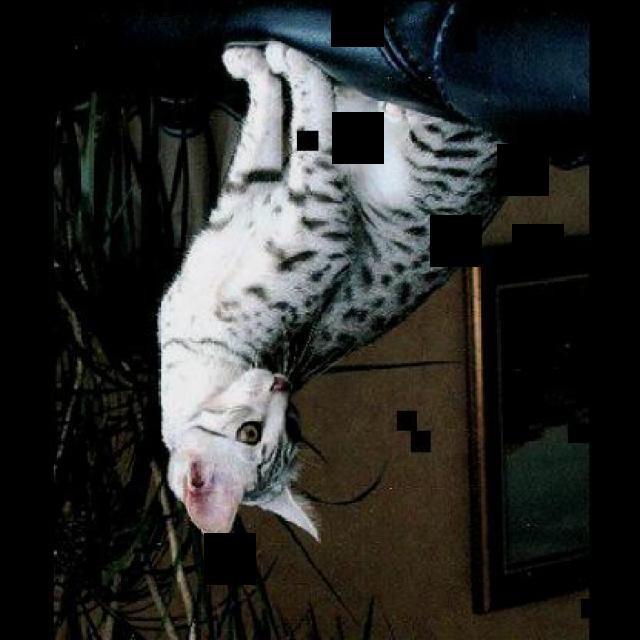unauthorized: (154, 37, 517, 548)
